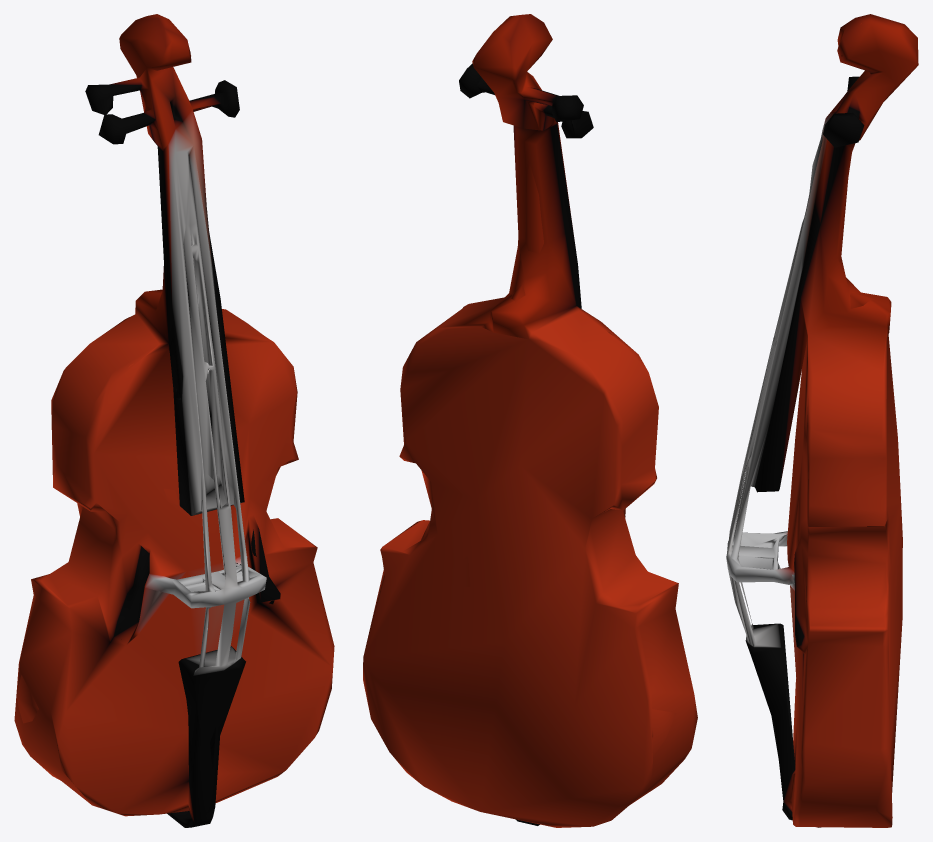
File: gen3d-cello-lod1.glb
3 renders of one model, left to right at view 1: azimuth 30°, elevation 25°; view 2: azimuth 150°, elevation 25°; view 3: azimuth 270°, elevation 25°, orthographic. The views are drawn at different scales.
Parts seen in each view (by area): view 1: part_0; view 2: part_0; view 3: part_0.
Part boxes in pixels (x1,y1,x2,y2): part_0: (14, 14, 334, 827); part_0: (363, 14, 697, 827); part_0: (726, 14, 918, 827).
Size of the model in its own units: 0.3742 by 0.9987 by 0.2153.
